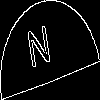N: (25, 25, 54, 78)
